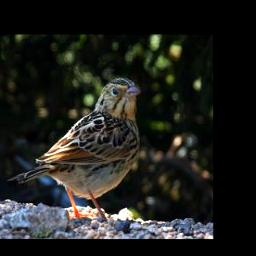Sparrow: (5, 71, 147, 222)
